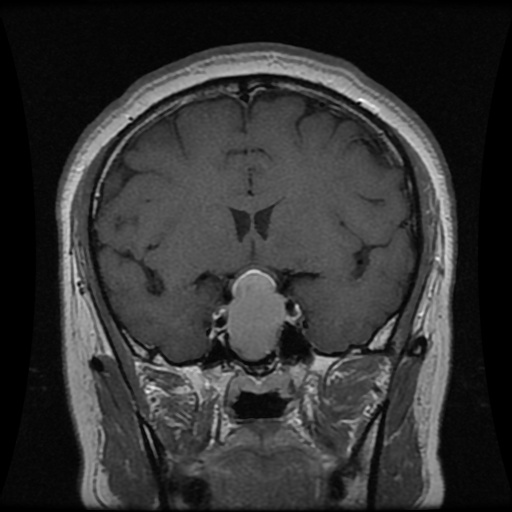pituitary: (228, 269, 286, 360)
